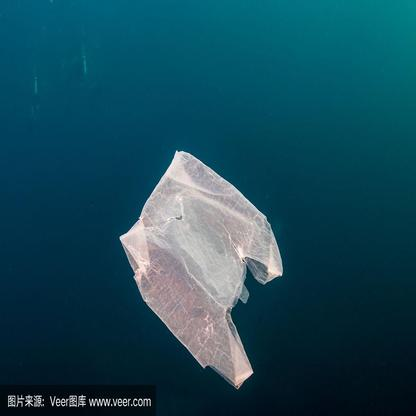plastic bag: (119, 150, 283, 389)
